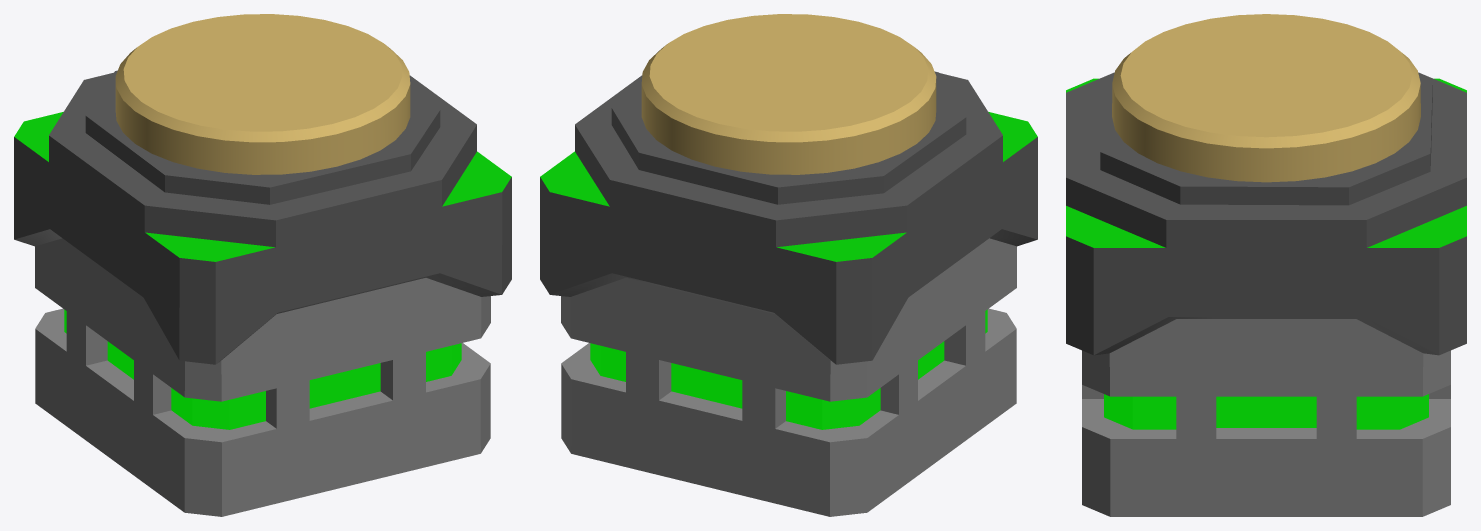
File: Bouton_Poussoir_Activ_.fbx
3 renders of one model, left to right at view 1: azimuth 30°, elevation 25°; view 2: azimuth 150°, elevation 25°; view 3: azimuth 270°, elevation 25°, orthographic. The views are drawn at different scales.
Visible parts, largest first — view 1: Bouton Poussoir Activé; view 2: Bouton Poussoir Activé; view 3: Bouton Poussoir Activé.
Boxes of the visible parts, x1,y1,x2,y2 form: Bouton Poussoir Activé: [14, 14, 511, 516]; Bouton Poussoir Activé: [540, 14, 1037, 516]; Bouton Poussoir Activé: [1066, 14, 1466, 516].
Size of the model in its own units: 100 by 100 by 100.
